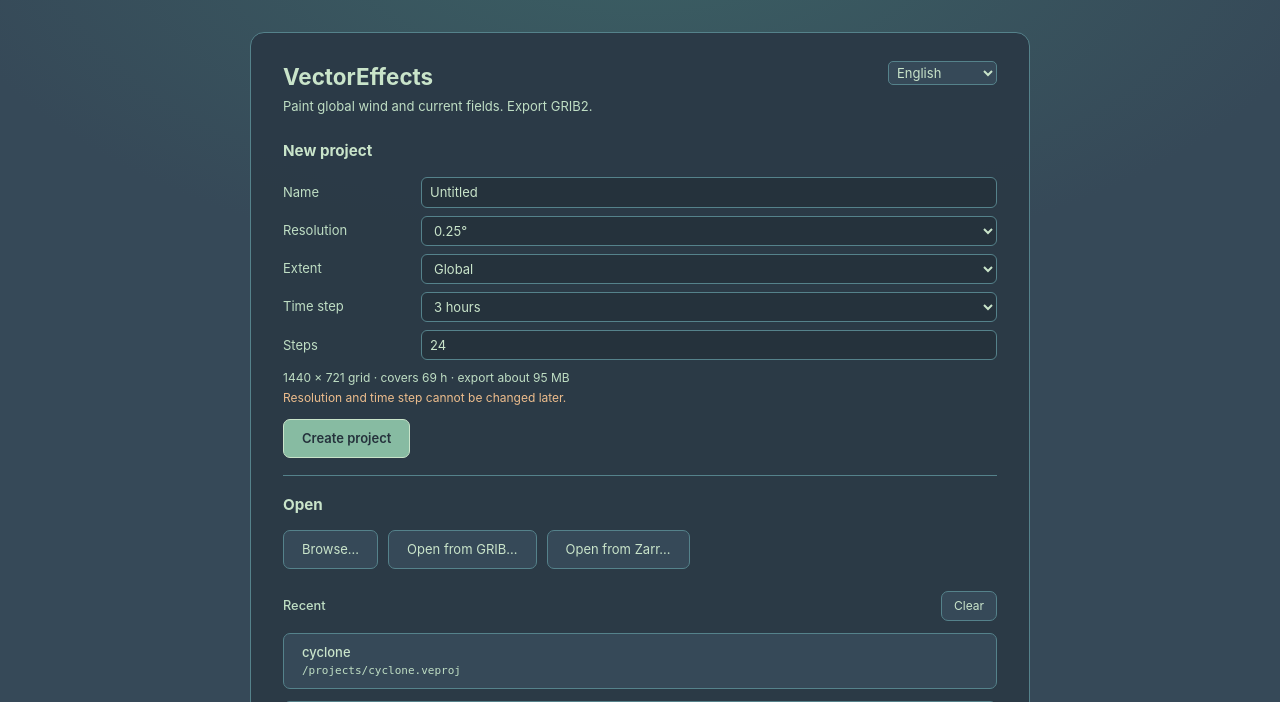
Test: clearing the recent projects list › empties the list once the confirmation is accepted
Click the button "Clear".
click(969, 606)  # box [941,591,997,620]
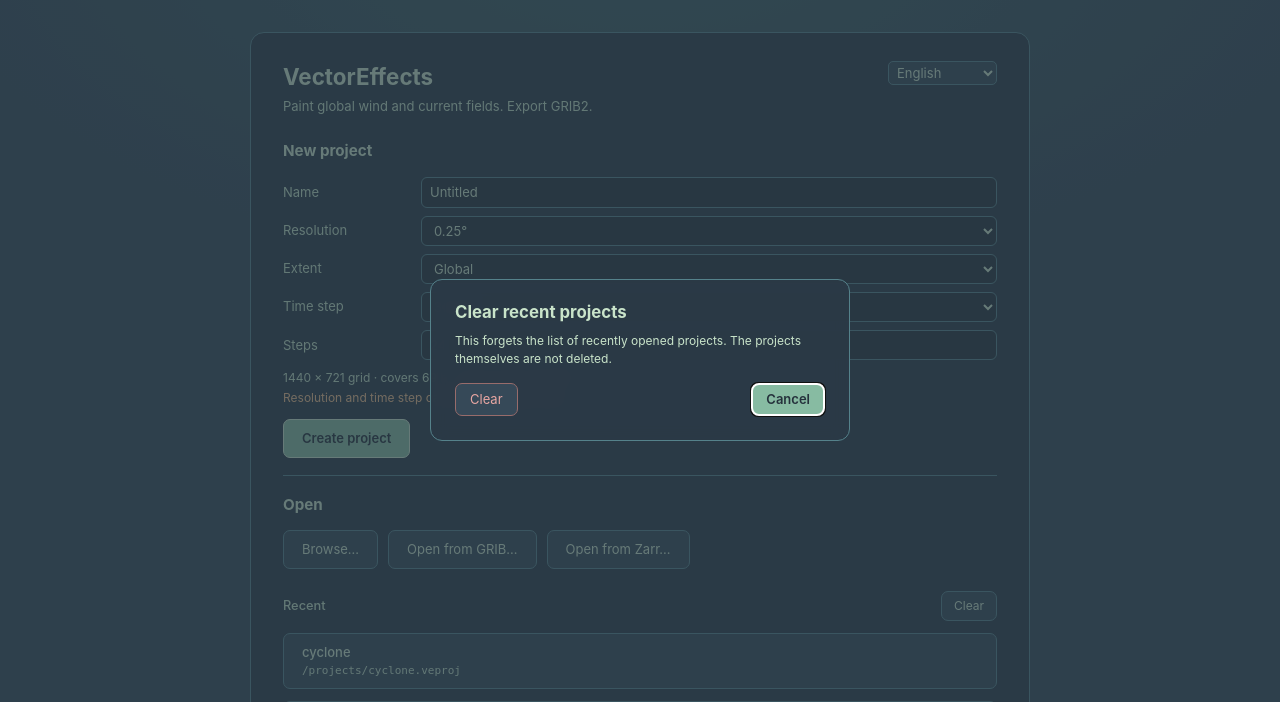
Click the button "Clear".
click(486, 400)  # box [455,383,518,416]
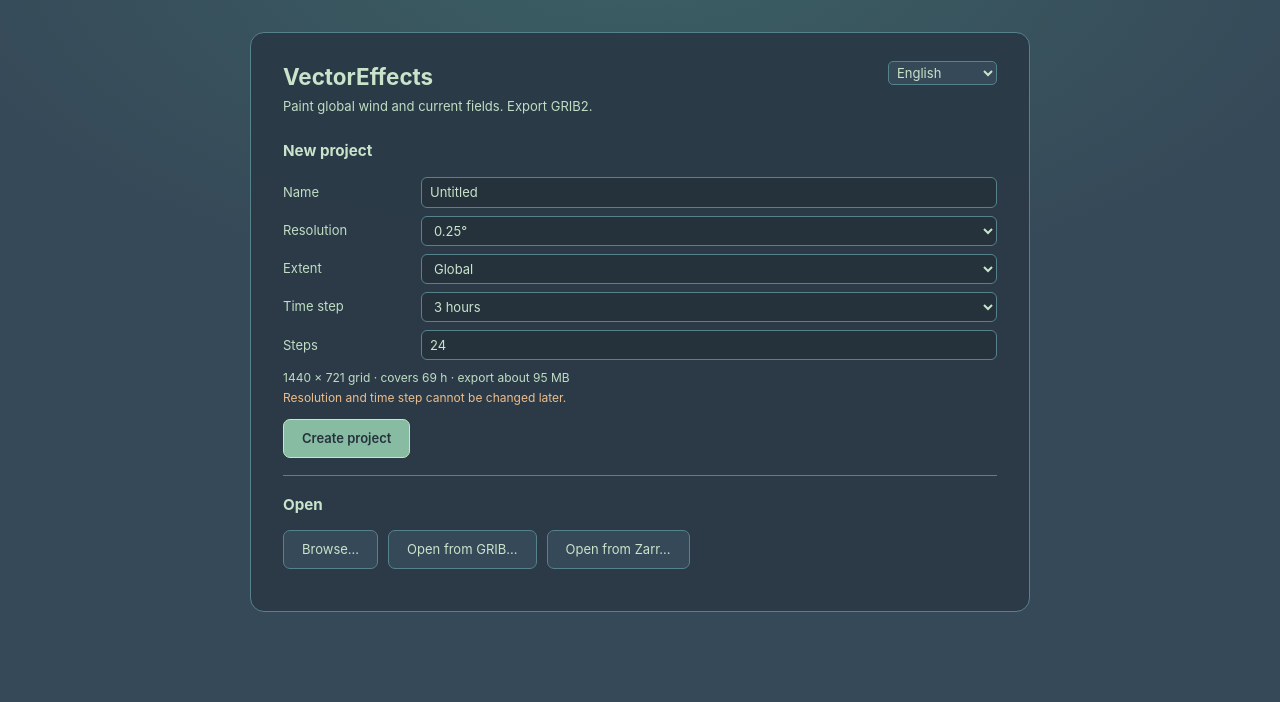
Check: the text "cyclone" is gone
